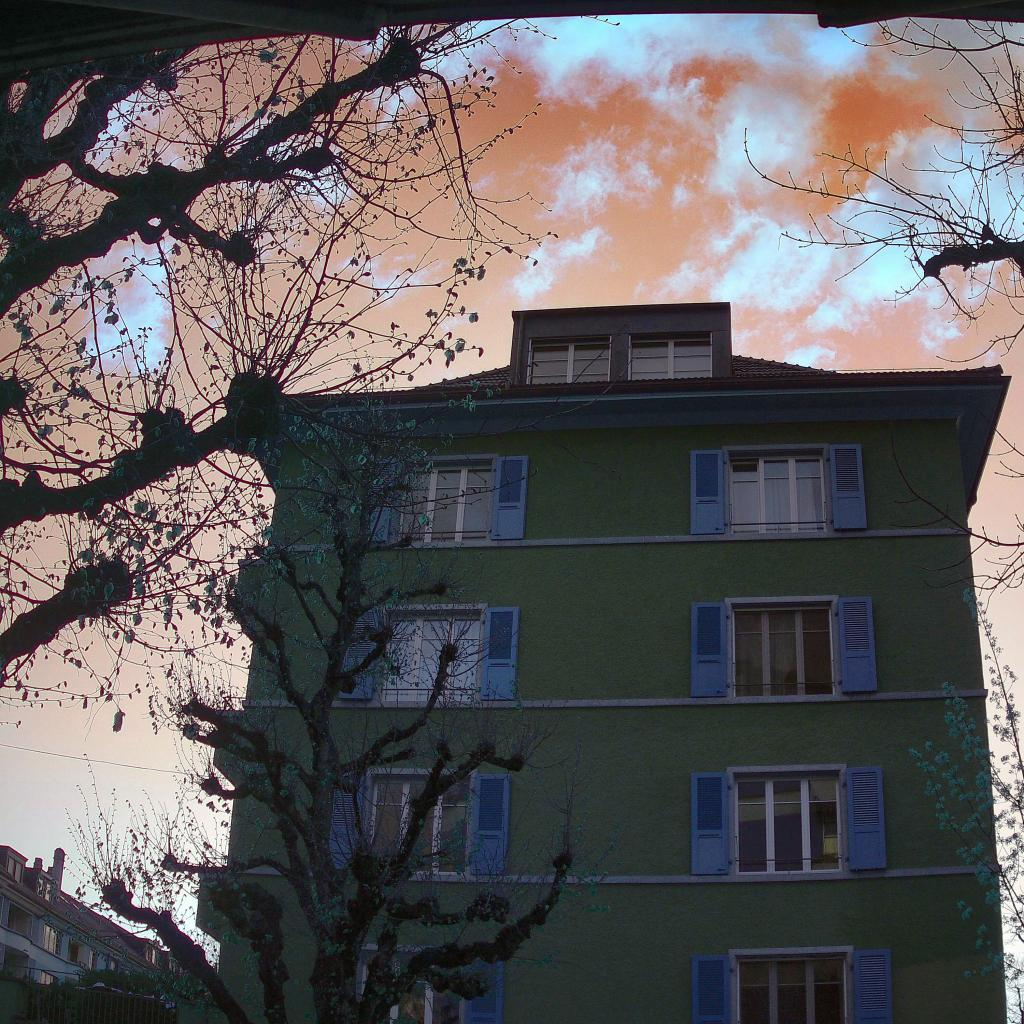facade: (180, 301, 1012, 1024), (0, 845, 182, 976)
fence: (0, 964, 181, 1024)
vegetation: (0, 14, 651, 1024), (743, 17, 1024, 365), (889, 422, 1024, 1024), (967, 393, 1024, 457), (993, 461, 1024, 478)
window: (734, 774, 843, 874), (367, 773, 470, 873), (732, 603, 835, 696), (383, 609, 481, 699), (729, 450, 828, 533), (395, 459, 494, 540), (738, 956, 850, 1023), (364, 954, 462, 1024), (631, 331, 712, 381), (527, 336, 610, 384), (44, 923, 62, 956), (37, 875, 56, 904), (8, 856, 23, 884), (41, 970, 59, 985), (168, 956, 180, 974), (148, 946, 158, 966), (88, 950, 97, 971), (109, 958, 118, 972)
